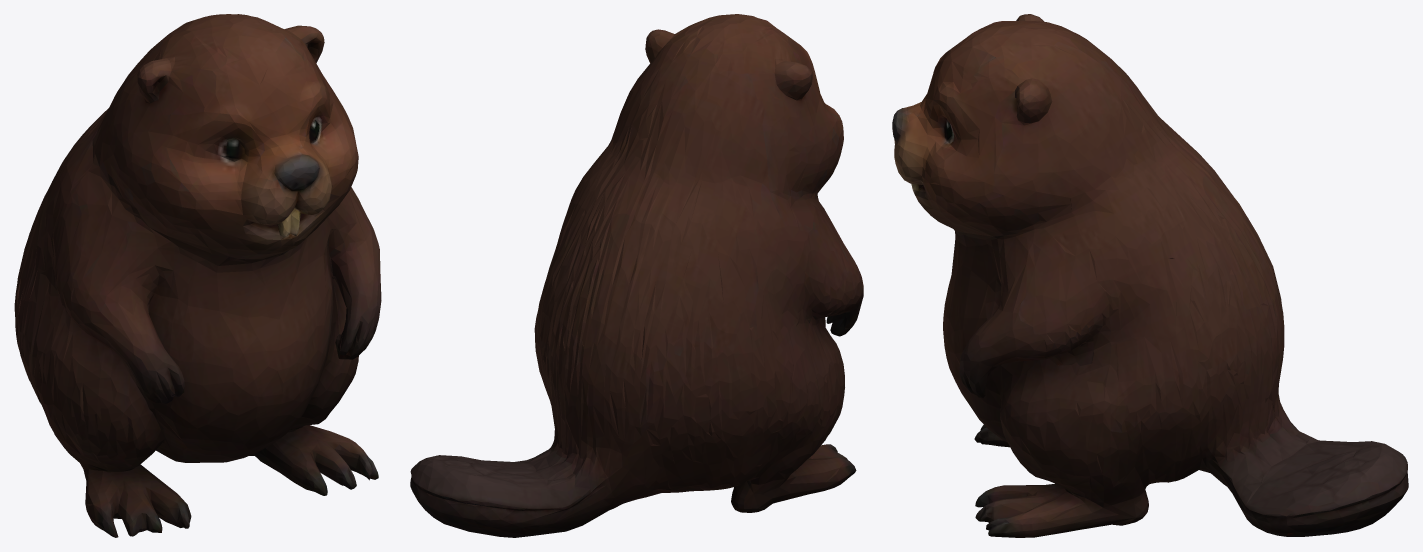
The model's file is beaver.glb.
3 renders of one model, left to right at view 1: azimuth 30°, elevation 25°; view 2: azimuth 150°, elevation 25°; view 3: azimuth 270°, elevation 25°, orthographic. The views are drawn at different scales.
Parts seen in each view (by area): view 1: geometry_0; view 2: geometry_0; view 3: geometry_0.
Boxes of the visible parts, x1,y1,x2,y2 form: geometry_0: [14, 14, 381, 537]; geometry_0: [410, 14, 863, 537]; geometry_0: [892, 14, 1408, 537].
Bounding box in the file's own units: 0.7134 × 0.9821 × 1.
Materials: 1 (1 with a texture image).
